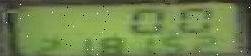-: (165, 24, 175, 33)
0: (126, 5, 162, 32), (177, 5, 213, 31)
1: (76, 34, 93, 55), (139, 34, 154, 54)
2: (30, 34, 60, 55), (190, 34, 220, 53)
5: (157, 34, 185, 53)
8: (96, 34, 126, 56)
